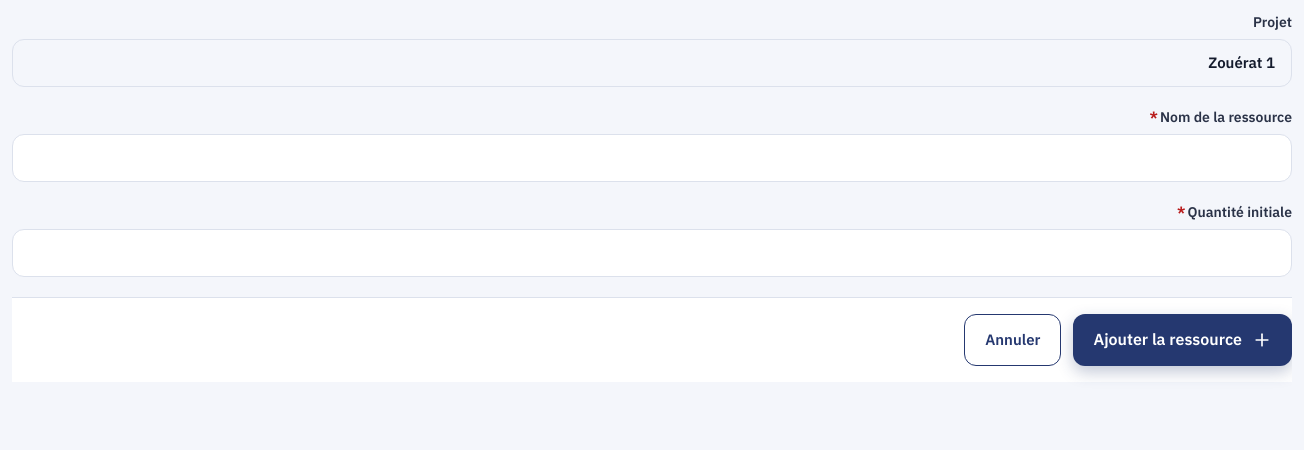
Scenario: ResourceForm › flags the empty fields
What coordinates should you click on to do the following:
click the button "Ajouter la ressource"
I would click on:
 (1183, 340)
Its box is [1073,314,1292,366].
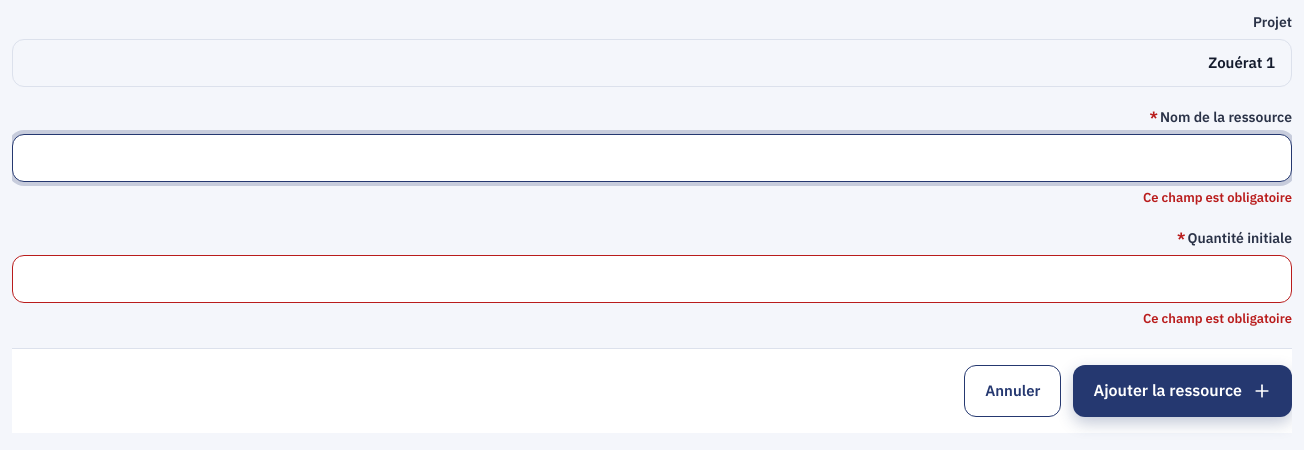
Result: the text "Ce champ est obligatoire" is shown 2 times at [1143,188,1292,207]; [1143,308,1292,328]
